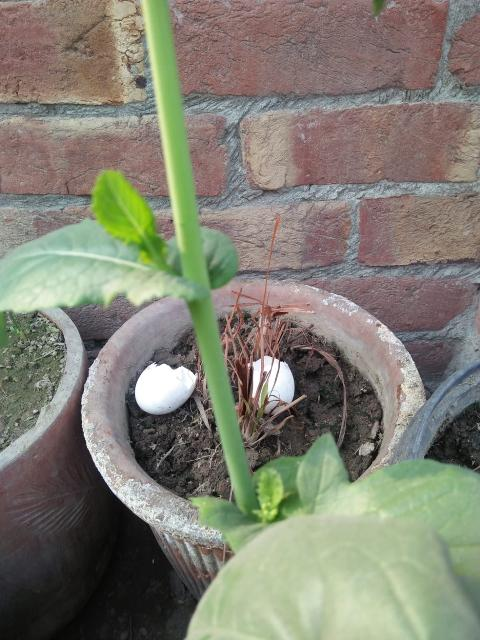Roto: (134, 361, 197, 415), (246, 355, 295, 415)
